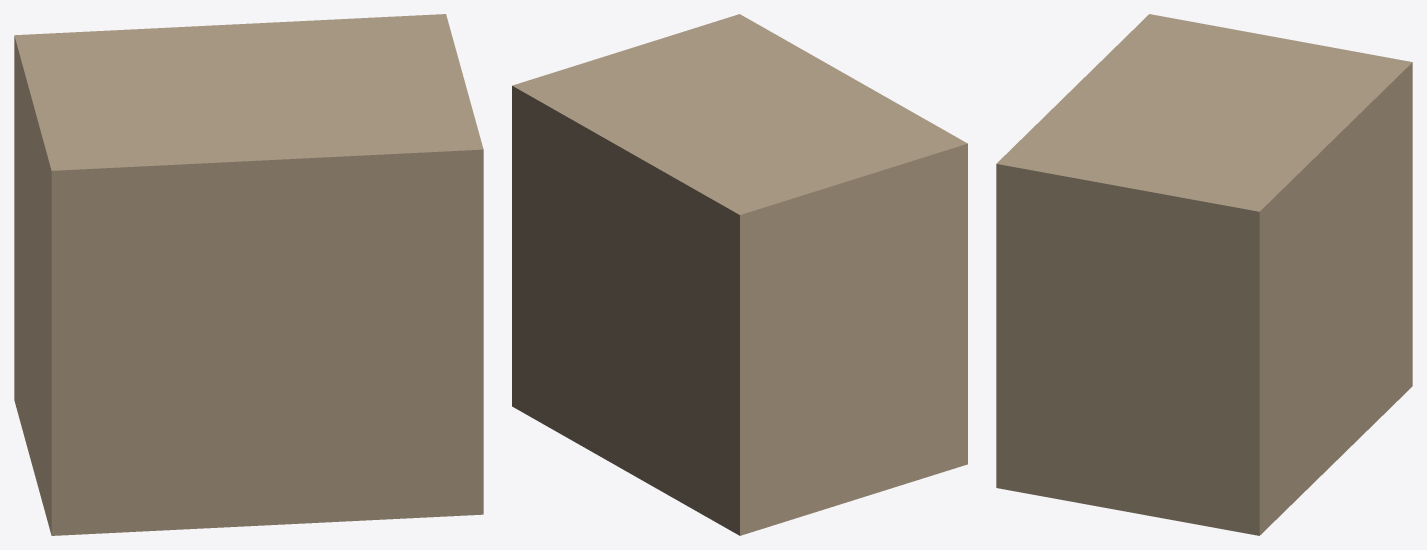
The model's file is bld_106338972.dae.
3 renders of one model, left to right at view 1: azimuth 30°, elevation 25°; view 2: azimuth 150°, elevation 25°; view 3: azimuth 270°, elevation 25°, orthographic. The views are drawn at different scales.
Parts seen in each view (by area): view 1: bld_106338972; view 2: bld_106338972; view 3: bld_106338972.
Part boxes in pixels (box(x1,y1,x2,y2)): bld_106338972: box(14, 14, 483, 535); bld_106338972: box(512, 14, 967, 535); bld_106338972: box(996, 14, 1412, 535).
Size of the model in its own units: 10.47 by 9.31 by 8.
